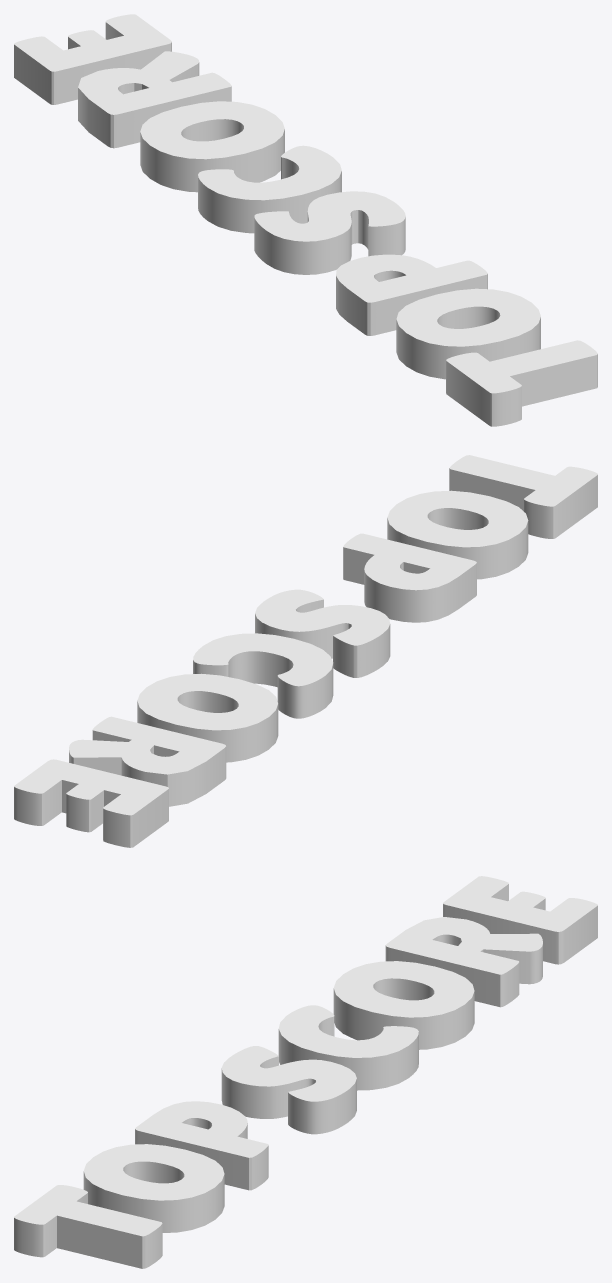
File: top_score.fbx
3 views of the same model, one above another, from view 1: azimuth 30°, elevation 25°; view 2: azimuth 150°, elevation 25°; view 3: azimuth 330°, elevation 25° (orthographic). The views are drawn at different scales.
Parts seen in each view (by area): view 1: top_score; view 2: top_score; view 3: top_score.
Part boxes in pixels (x1=…): top_score: x1=14, y1=14, x2=597, y2=426; top_score: x1=14, y1=455, x2=597, y2=847; top_score: x1=14, y1=876, x2=597, y2=1268.
Bounding box in the file's own units: 158 × 40.12 × 1050.
